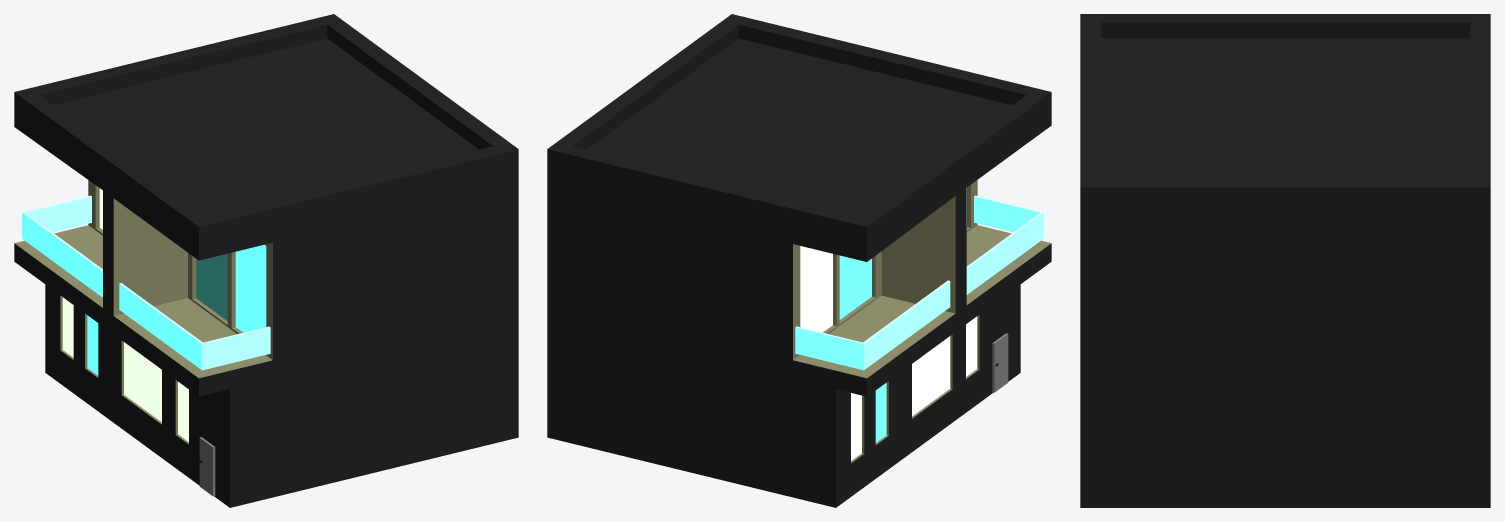
File: l1building2.fbx
3 renders of one model, left to right at view 1: azimuth 30°, elevation 25°; view 2: azimuth 150°, elevation 25°; view 3: azimuth 270°, elevation 25°, orthographic. The views are drawn at different scales.
Visible parts, largest first — view 1: building2_LOD0; view 2: building2_LOD0; view 3: building2_LOD0.
Boxes of the visible parts, left/top/right/bottom form: building2_LOD0: left=14, top=14, right=518, bottom=507; building2_LOD0: left=547, top=14, right=1051, bottom=507; building2_LOD0: left=1080, top=14, right=1490, bottom=507.
Size of what is drawn, in the model's own units: 13.68 by 11.79 by 13.68.
